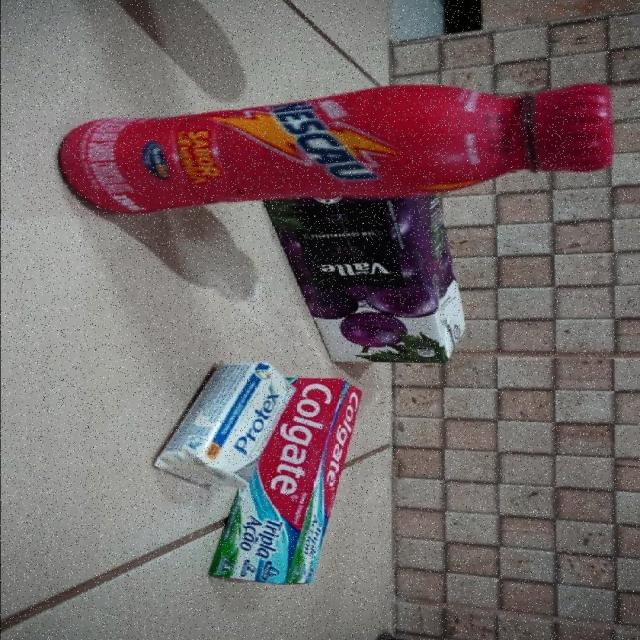ChocolateMilk: (53, 81, 617, 217)
Soap: (150, 361, 297, 490)
Toothpaste: (206, 377, 364, 587)
